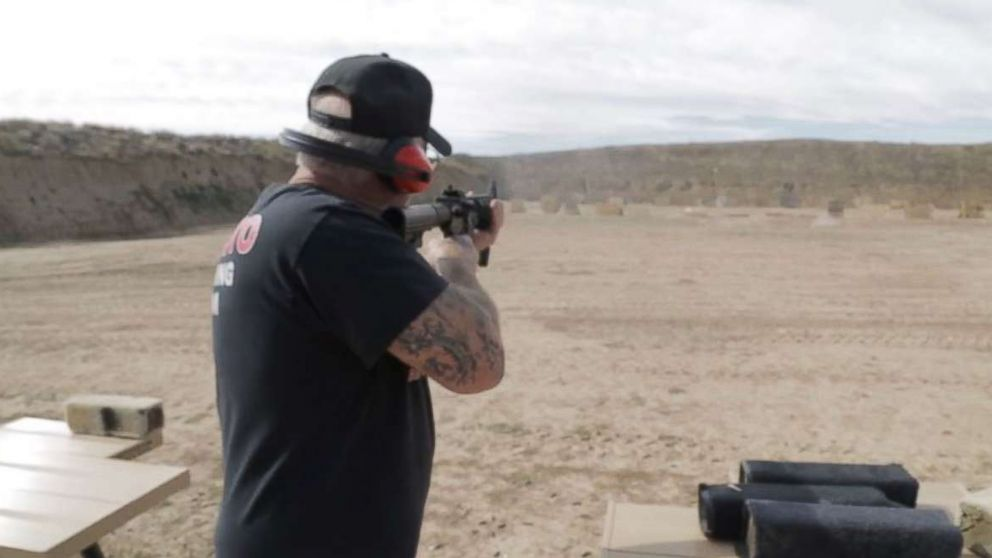rifle: (384, 181, 508, 281)
